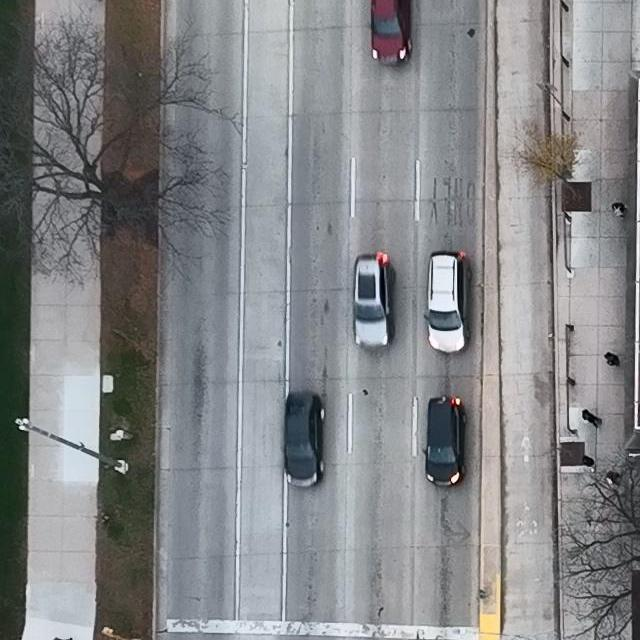car: (423, 252, 471, 354), (281, 391, 326, 487), (354, 251, 395, 349), (423, 395, 465, 488), (370, 0, 412, 66)
